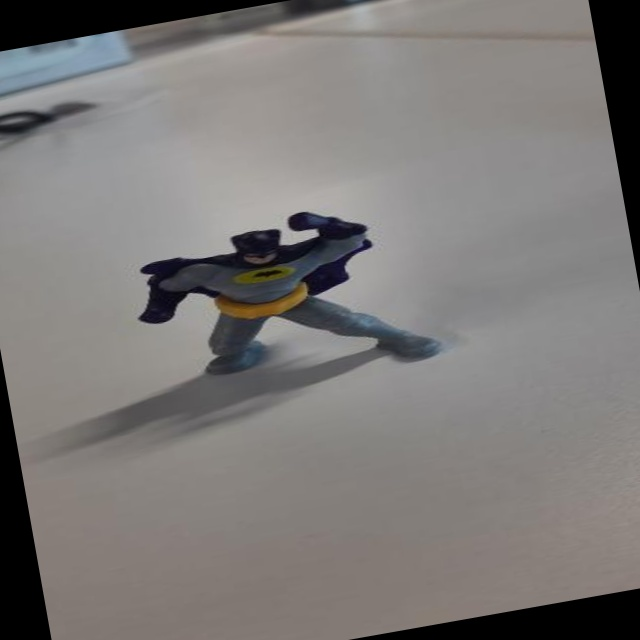Batman: (120, 187, 459, 417)
